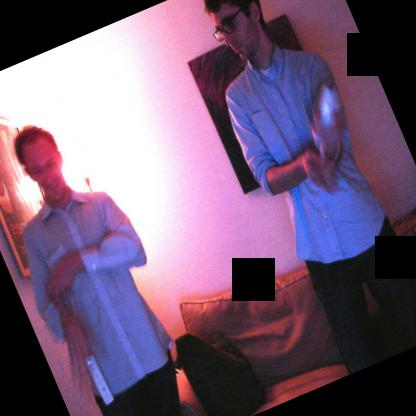backpack: (172, 332, 269, 416)
